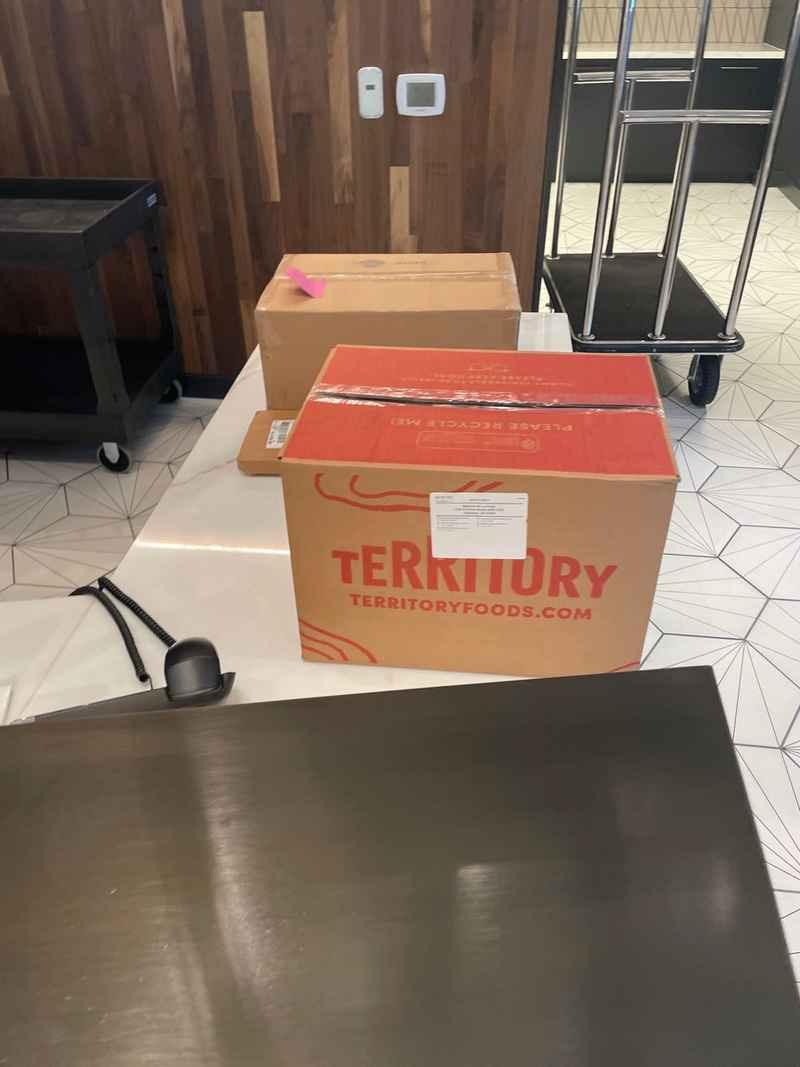package: (273, 343, 682, 683)
